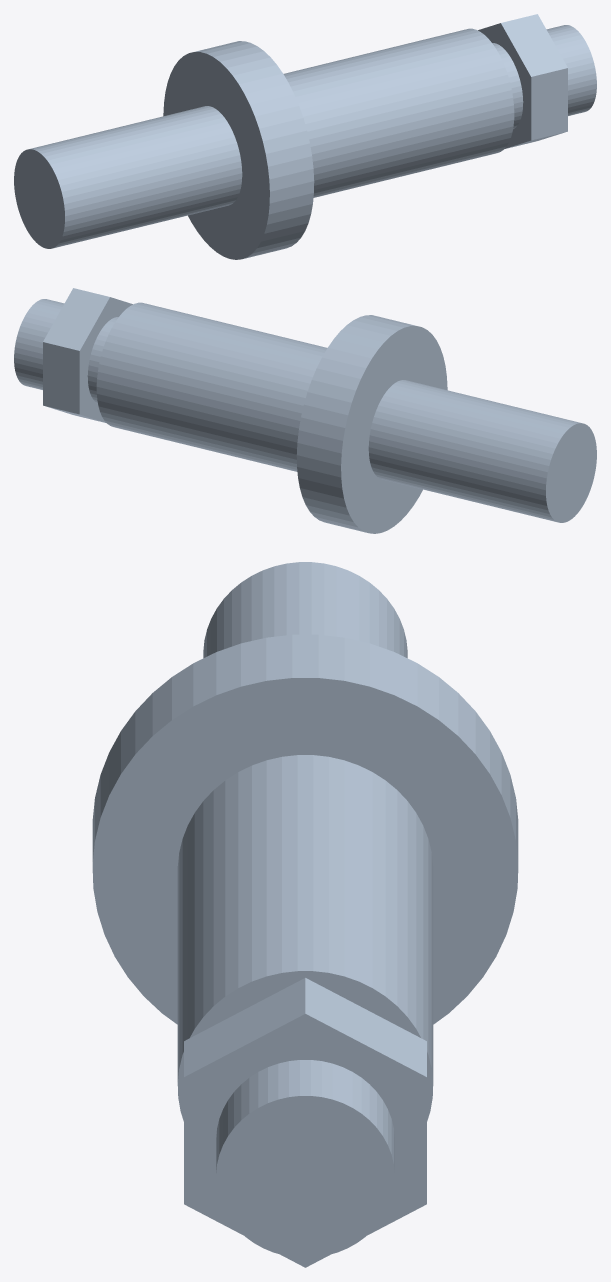
The picture shows the model from 3 angles, top to bottom: view 1: azimuth 30°, elevation 25°; view 2: azimuth 150°, elevation 25°; view 3: azimuth 270°, elevation 25°; orthographic projection. The views are drawn at different scales.
Visible parts, largest first — view 1: p01, p02; view 2: p01, p02; view 3: p01, p02.
Boxes of the visible parts, x1,y1,x2,y2 form: p01: [14, 25, 596, 259]; p02: [478, 14, 567, 148]; p01: [14, 299, 596, 533]; p02: [43, 288, 132, 422]; p01: [92, 562, 518, 1257]; p02: [184, 978, 426, 1267].
Bounding box in the file's own units: 0.145 × 0.05 × 0.05.
